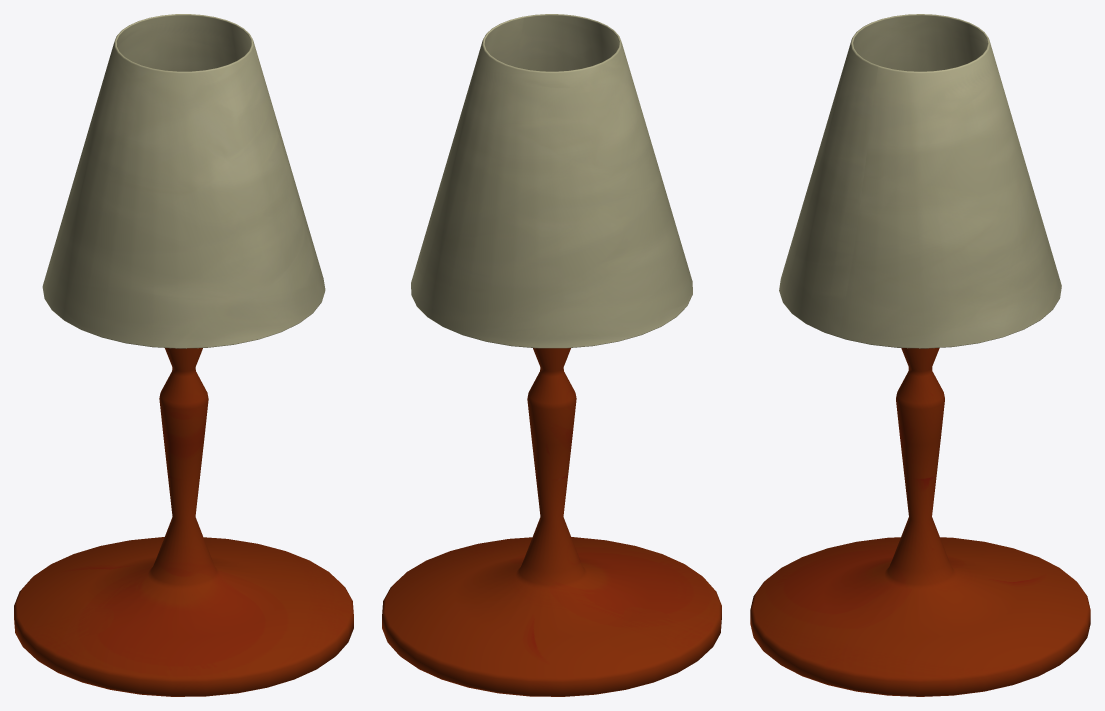
File: abajur_presente.glb
3 views of the same model, side by side, from view 1: azimuth 30°, elevation 25°; view 2: azimuth 150°, elevation 25°; view 3: azimuth 270°, elevation 25° (orthographic).
Parts seen in each view (by area): view 1: cabeça_abajur.001, tronco.001; view 2: cabeça_abajur.001, tronco.001; view 3: cabeça_abajur.001, tronco.001.
Part boxes in pixels (<box>): cabeça_abajur.001: <box>42,14,325,348</box>; tronco.001: <box>14,348,353,696</box>; cabeça_abajur.001: <box>411,14,692,348</box>; tronco.001: <box>382,348,721,696</box>; cabeça_abajur.001: <box>779,14,1061,348</box>; tronco.001: <box>750,348,1090,696</box>.
Bounding box in the file's own units: 2 × 3.78 × 2.
3 materials, 2 textured.
